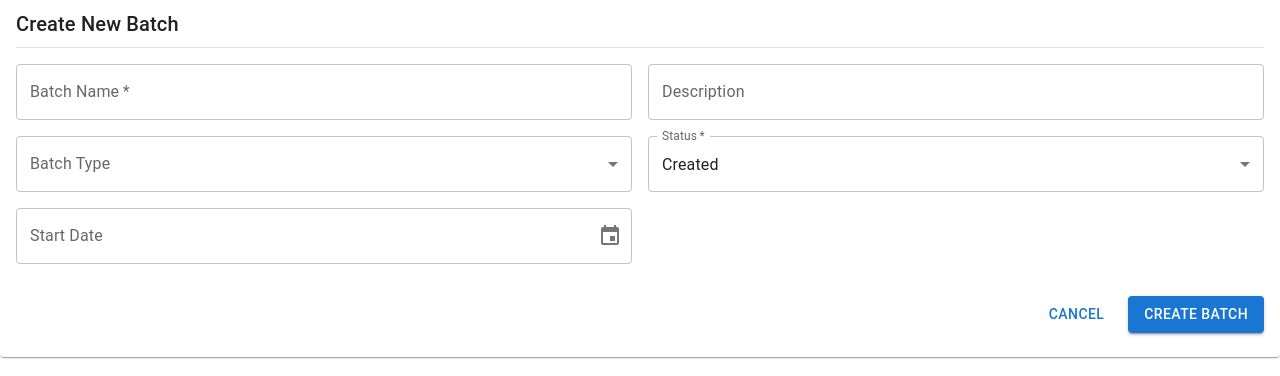
Test: BatchForm › shows loading state during submission
In the field labelled "Batch Name *": (324, 92) 16,64 -> 632,120, type "Test Batch"
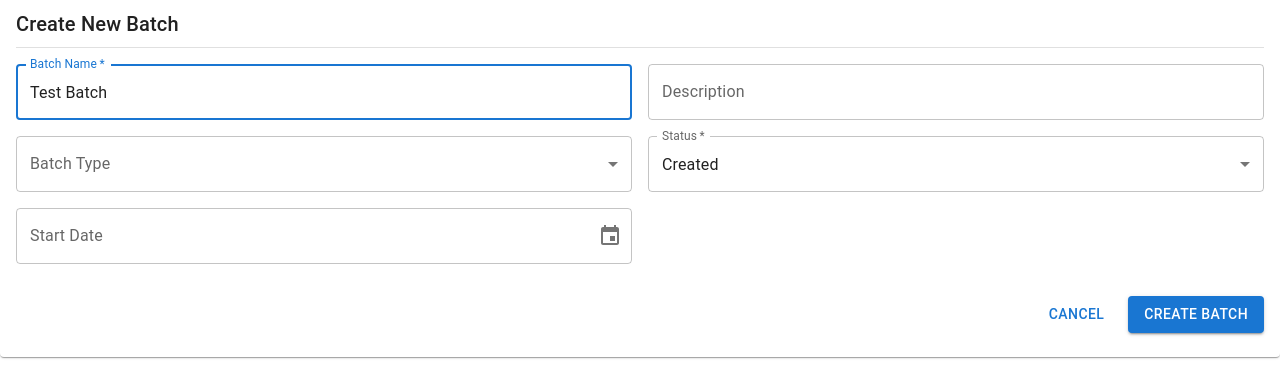
Click the button "Create Batch": (1196, 314) 1128,296 -> 1264,332
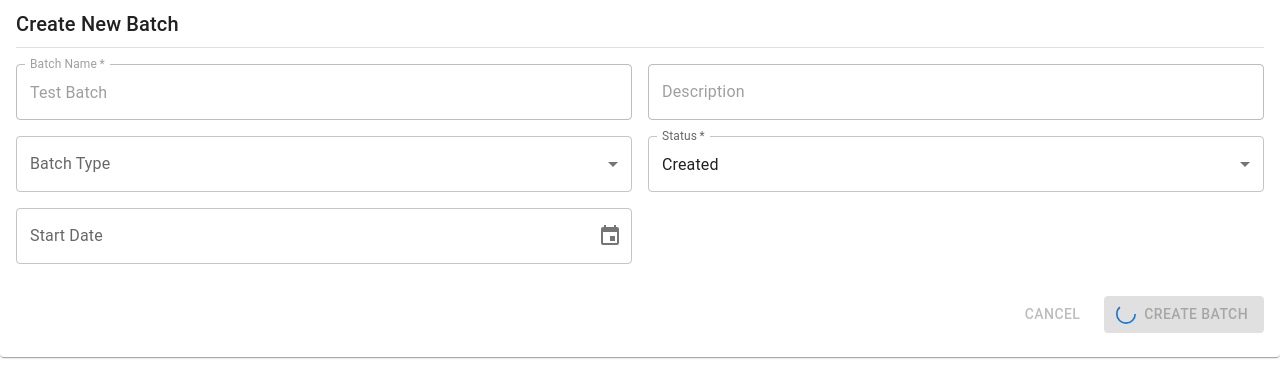
Result: the button "Create Batch" is disabled at 1104,296 -> 1264,332
